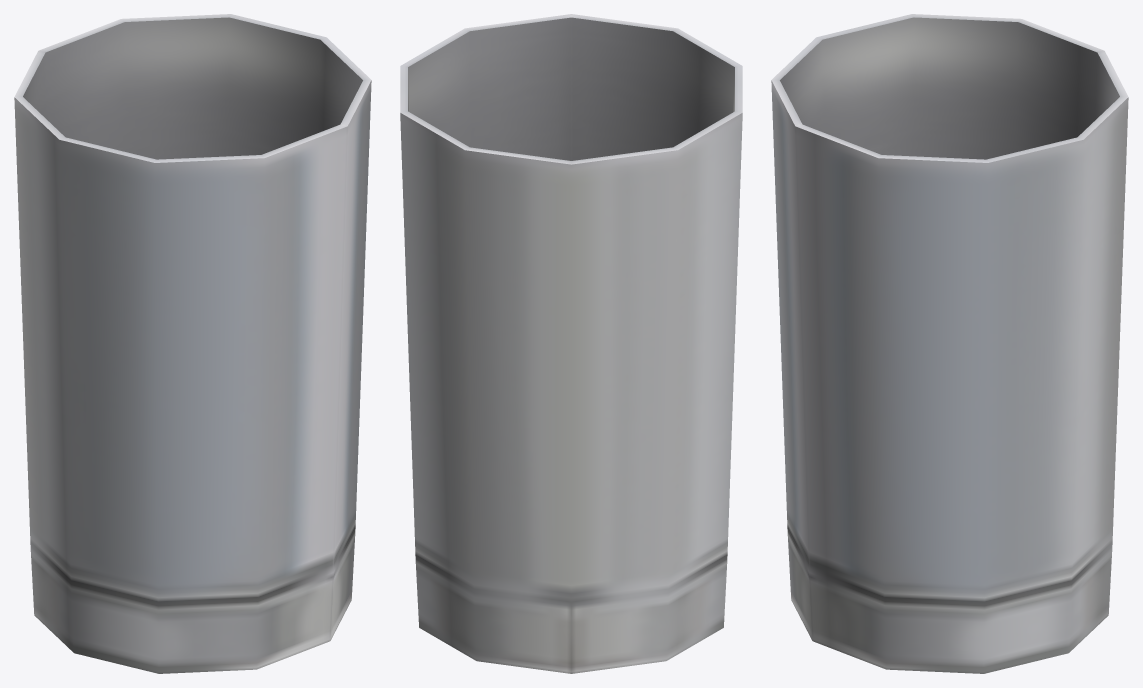
File: TouKuiZheJia_01_beizi_02_UV2.FBX
3 renders of one model, left to right at view 1: azimuth 30°, elevation 25°; view 2: azimuth 150°, elevation 25°; view 3: azimuth 270°, elevation 25°, orthographic.
Parts seen in each view (by area): view 1: TouKuiZheJia_01_beizi_02_UV2; view 2: TouKuiZheJia_01_beizi_02_UV2; view 3: TouKuiZheJia_01_beizi_02_UV2.
Part boxes in pixels (<box>): TouKuiZheJia_01_beizi_02_UV2: <box>14,14,371,673</box>; TouKuiZheJia_01_beizi_02_UV2: <box>400,14,742,673</box>; TouKuiZheJia_01_beizi_02_UV2: <box>771,14,1128,673</box>.
Bounding box in the file's own units: 30.63 × 49.74 × 31.02.
Materials: 1 (1 with a texture image).
